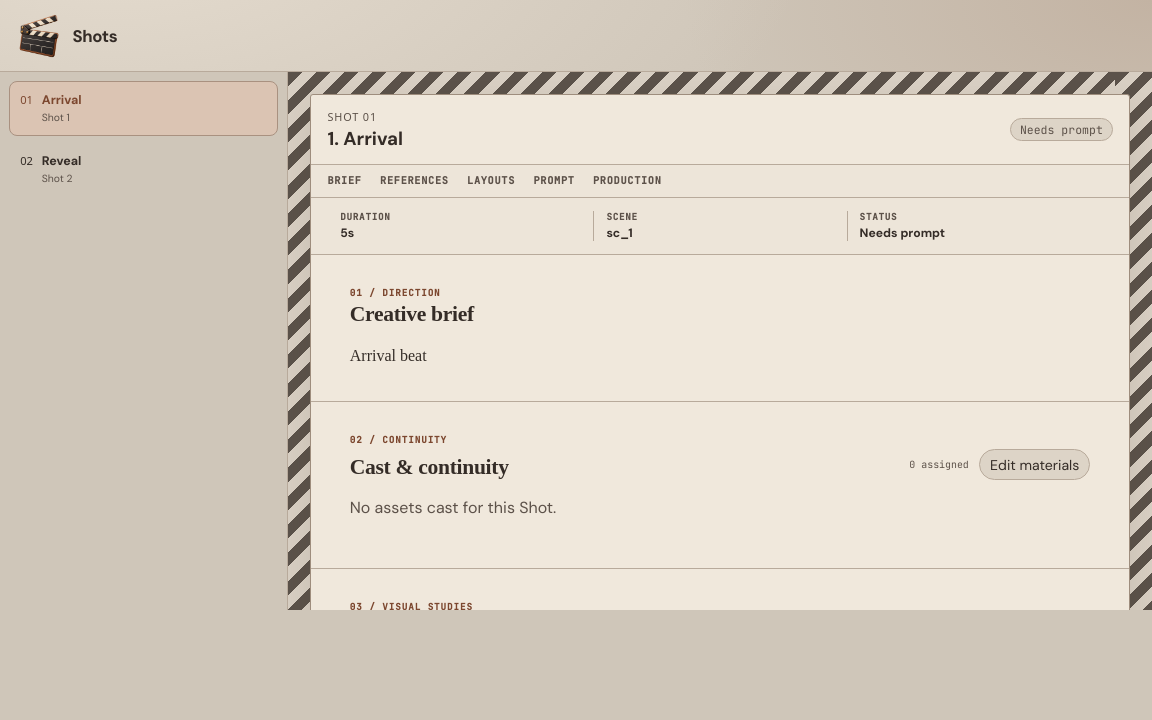
ShotWorkspace › renders every Shot section as one continuously readable design document
The width and height of the screenshot is (1152, 720).
What coordinates should you click on to do the following:
click the button with aria-label "Shot 2 · Reveal"
I would click on:
 (62, 161)
Its box is x1=9 y1=141 x2=278 y2=196.
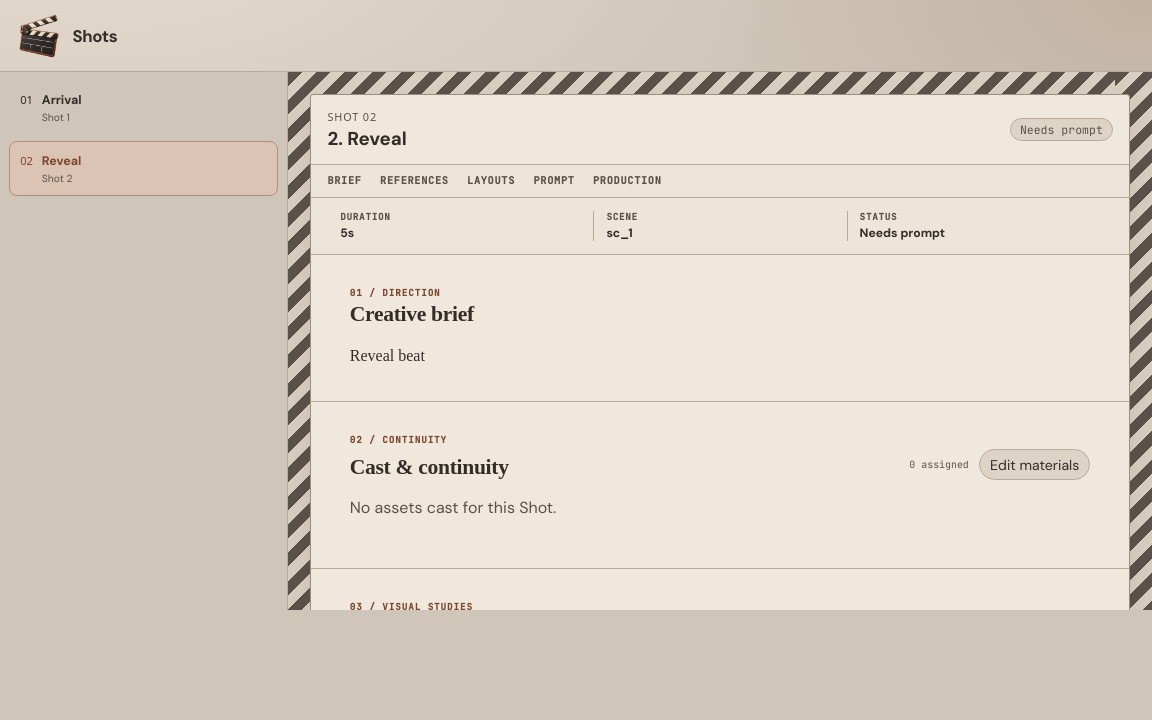
Expected: the heading "Creative brief" is shown, x1=350 y1=302 x2=474 y2=326
Now the heading "2. Reveal" is shown, box x1=327 y1=126 x2=407 y2=151
Now the text "Reveal beat" is shown, box x1=350 y1=347 x2=425 y2=364
